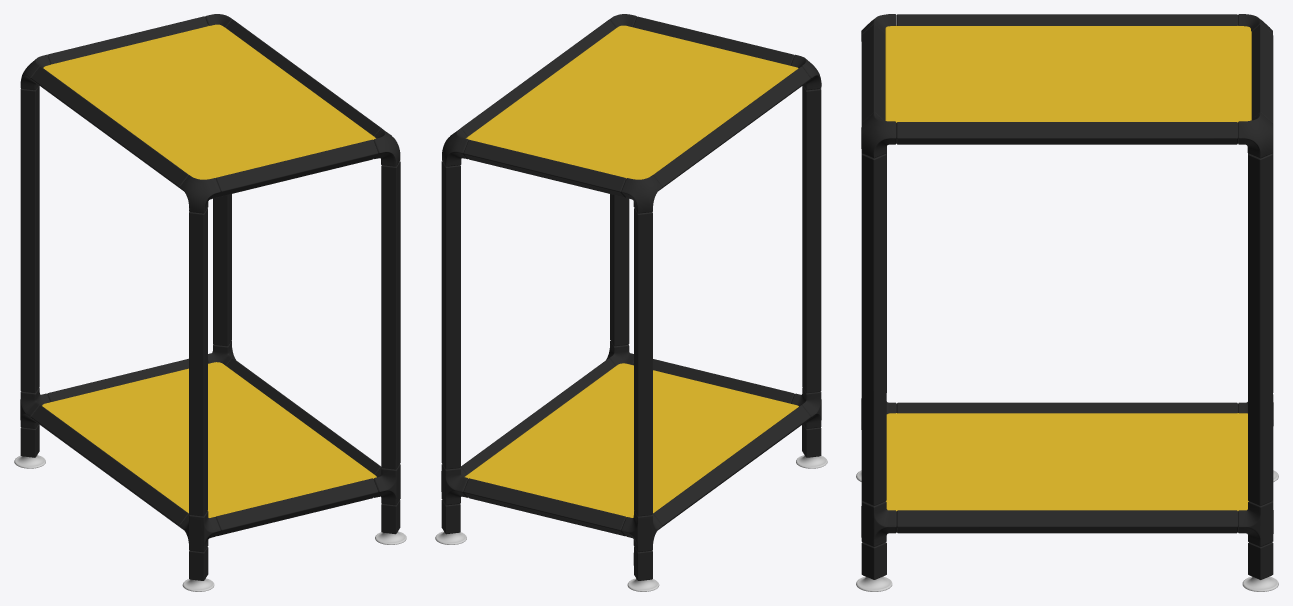
3 views of the same model, side by side, from view 1: azimuth 30°, elevation 25°; view 2: azimuth 150°, elevation 25°; view 3: azimuth 270°, elevation 25° (orthographic). The views are drawn at different scales.
Parts seen in each view (by area): view 1: 229x374x420; view 2: 229x374x420; view 3: 229x374x420.
Part boxes in pixels (x1,y1,x2,y2): 229x374x420: (14,14,406,591); 229x374x420: (435,14,827,591); 229x374x420: (856,14,1278,591).
Size of the model in its own units: 0.3188 by 0.5593 by 0.4632.
